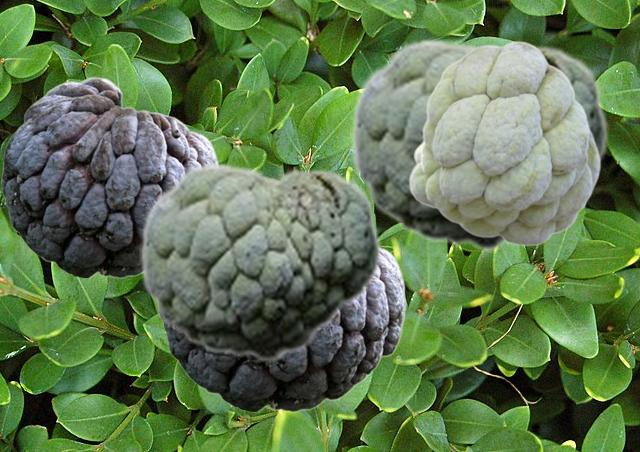atis: (350, 37, 608, 251), (139, 161, 381, 362), (1, 76, 219, 277), (158, 246, 405, 411), (408, 40, 600, 245)
